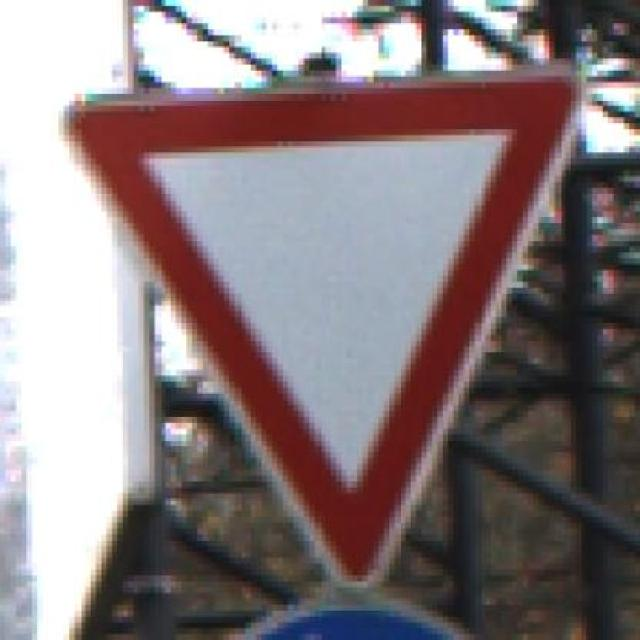Give Way: (42, 41, 613, 599)
